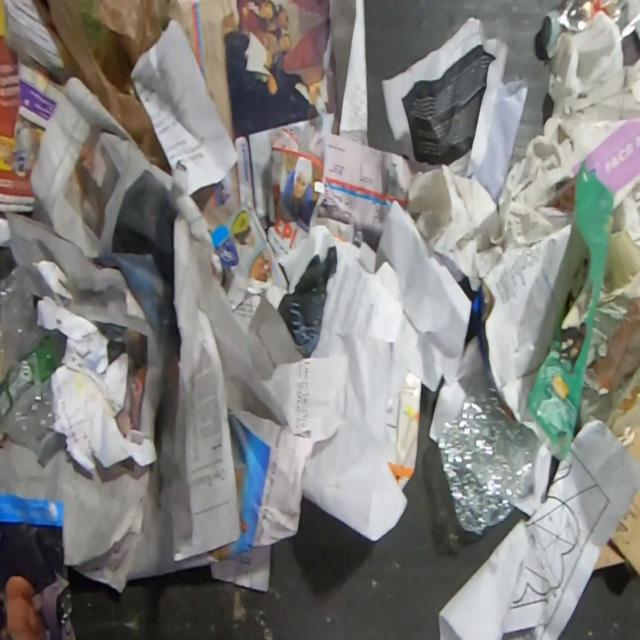cardboard: (383, 368, 422, 492)
rigid_plastic: (436, 378, 543, 533), (0, 263, 66, 468), (582, 292, 640, 397), (541, 0, 640, 51)
soft_plastic: (46, 0, 178, 177)
